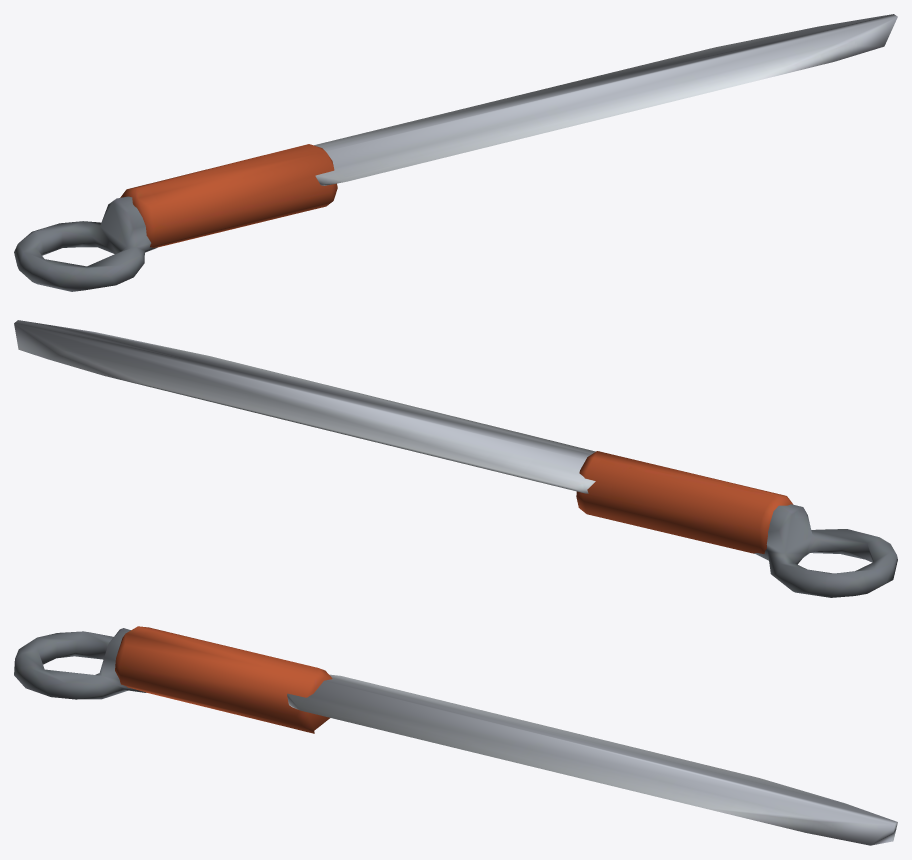
Rendered from throwing-knife.glb.
The picture shows the model from 3 angles, top to bottom: view 1: azimuth 30°, elevation 25°; view 2: azimuth 150°, elevation 25°; view 3: azimuth 330°, elevation 25°; orthographic projection.
Parts seen in each view (by area): view 1: blade; view 2: blade; view 3: blade.
Part boxes in pixels (bbox=[...]): blade: bbox=[14, 14, 897, 291]; blade: bbox=[14, 320, 897, 597]; blade: bbox=[14, 626, 897, 845].
Size of the model in its own units: 0.2667 by 0.0189 by 0.0346.
Materials: 1 (1 with a texture image).
